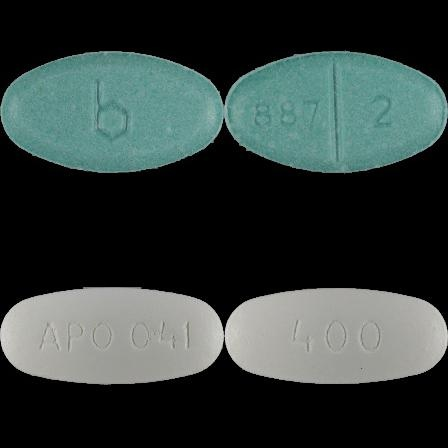66267-093: (0, 0, 224, 224)
